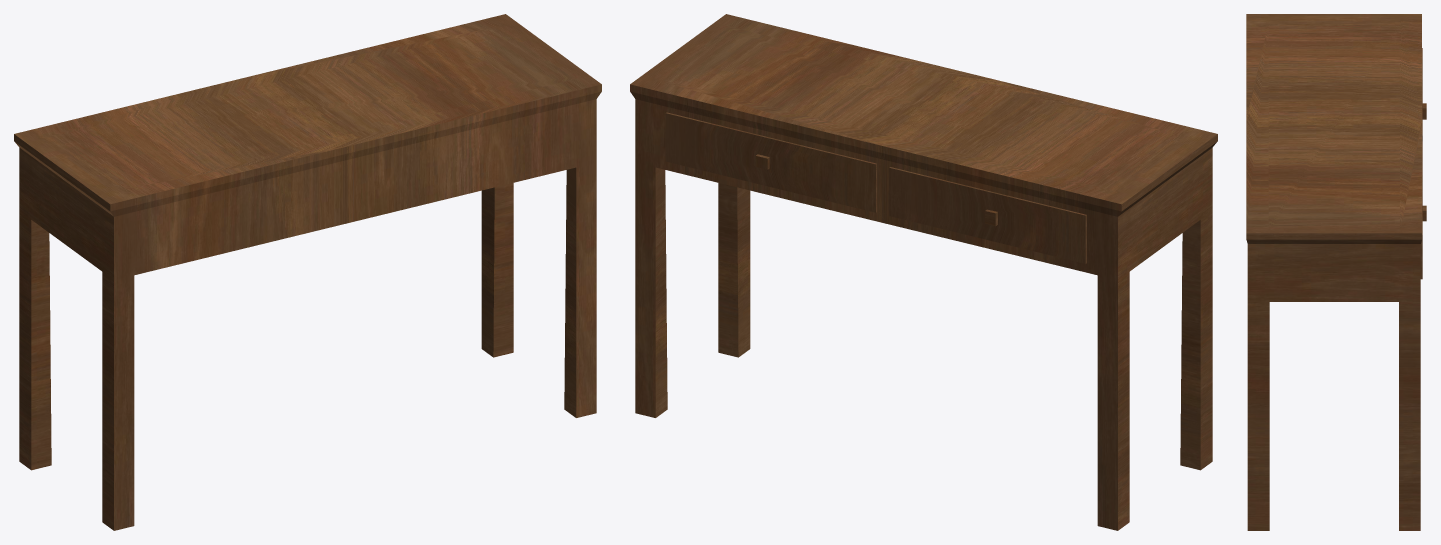
File: mesadecanto.fbx
3 renders of one model, left to right at view 1: azimuth 30°, elevation 25°; view 2: azimuth 150°, elevation 25°; view 3: azimuth 270°, elevation 25°, orthographic. The views are drawn at different scales.
Visible parts, largest first — view 1: Mesa do canto; view 2: Mesa do canto; view 3: Mesa do canto.
Part boxes in pixels (left/top/right/bottom): Mesa do canto: left=14, top=14, right=601, bottom=530; Mesa do canto: left=630, top=14, right=1217, bottom=530; Mesa do canto: left=1246, top=14, right=1426, bottom=530.
Size of the model in its own units: 120 by 76.24 by 41.51.
